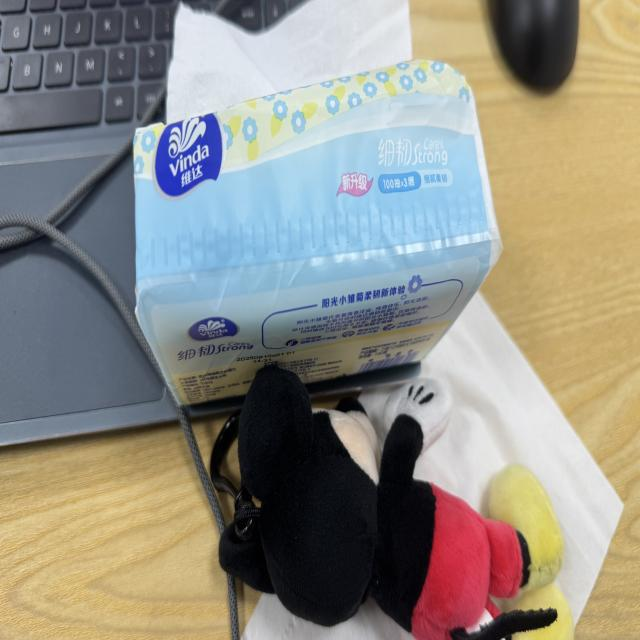mickey: (220, 367, 572, 639)
tissue: (134, 61, 500, 403)
